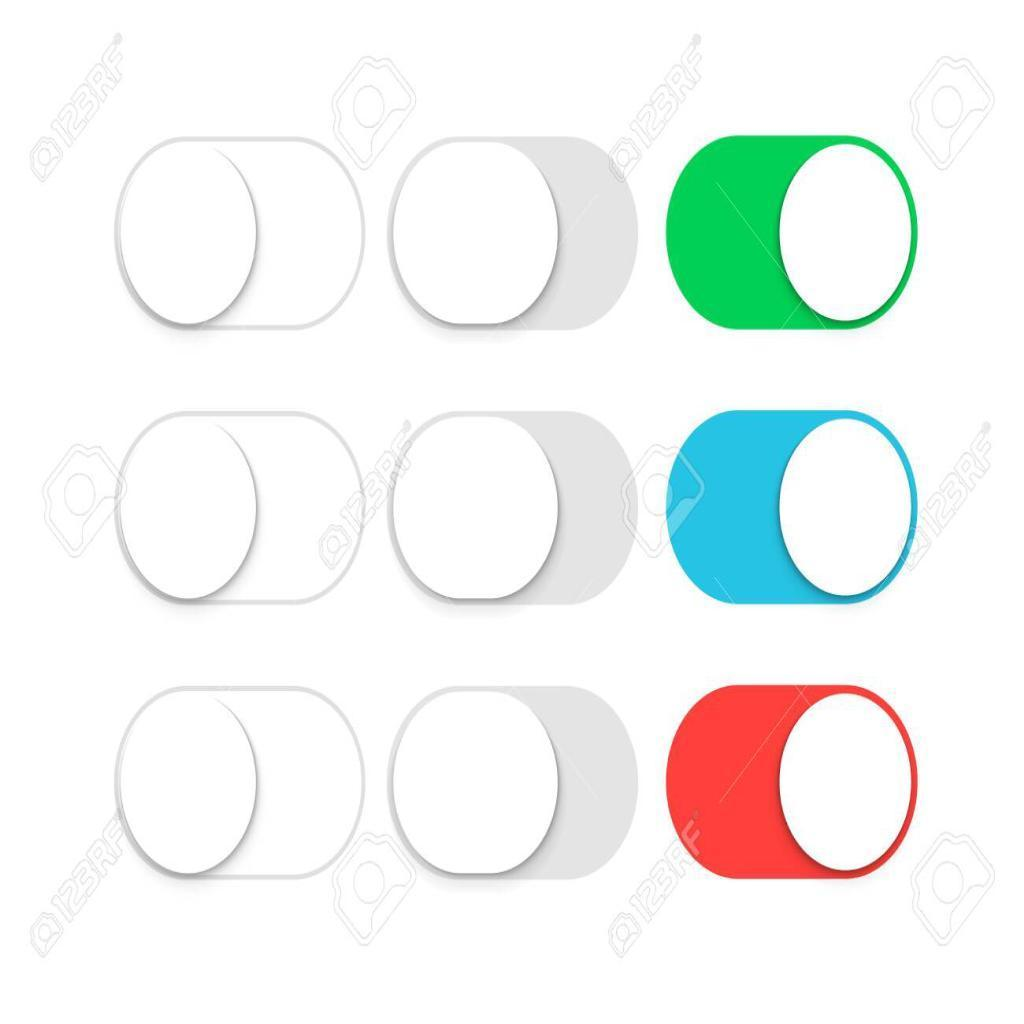switch: (387, 134, 641, 339), (110, 132, 371, 331), (384, 409, 645, 604), (666, 412, 920, 606), (386, 691, 641, 882), (668, 686, 920, 879), (113, 414, 367, 605), (667, 137, 919, 329), (117, 690, 367, 882)
